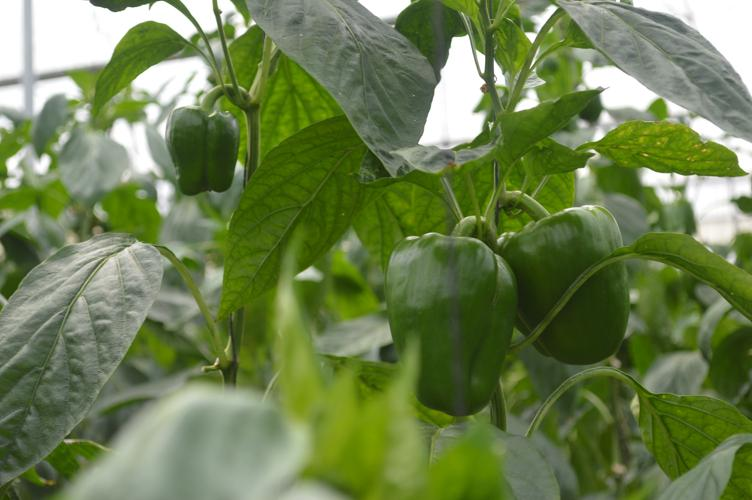BellPepper: (381, 233, 513, 414), (503, 201, 631, 372), (164, 107, 241, 195)
